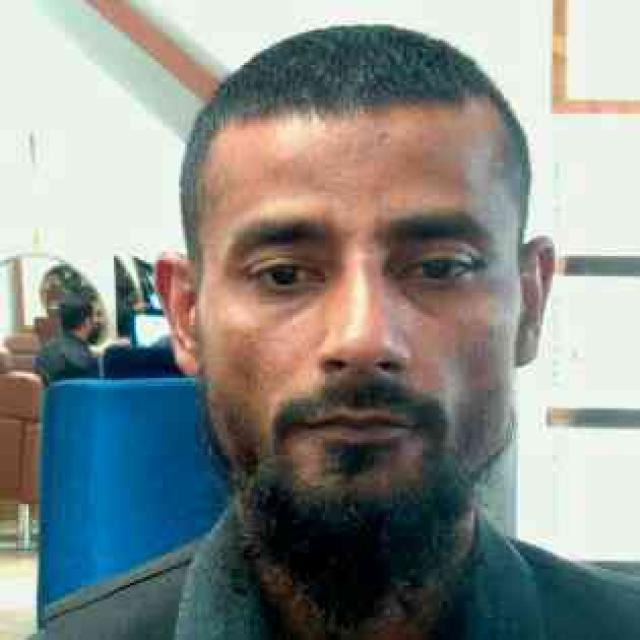puffy_eyes: (396, 282, 475, 323), (245, 290, 329, 325)
